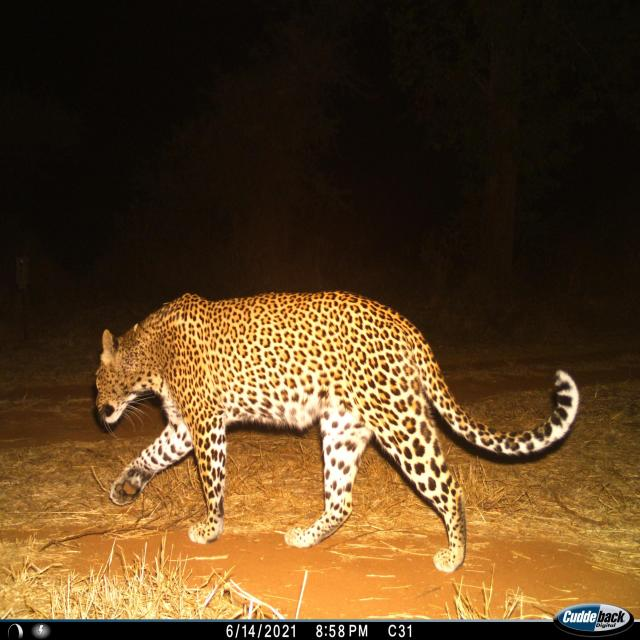Leopard: (85, 292, 584, 578)
